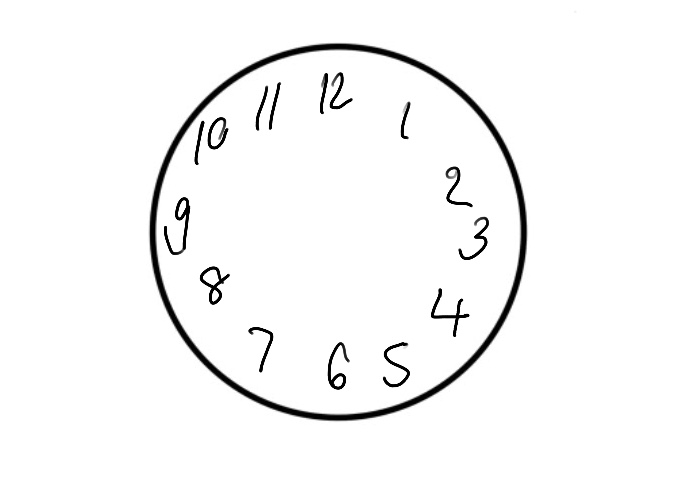eight: (199, 258, 233, 314)
eleven: (256, 82, 286, 136)
five: (378, 334, 418, 388)
four: (427, 281, 477, 348)
nine: (166, 195, 195, 259)
one: (395, 92, 419, 143)
seven: (245, 317, 283, 379)
six: (327, 331, 352, 398)
ten: (193, 112, 232, 166)
three: (453, 214, 489, 259)
twelve: (313, 64, 357, 122)
two: (444, 162, 476, 216)
